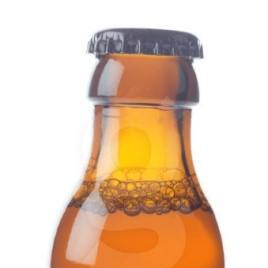beer: (50, 28, 226, 268)
